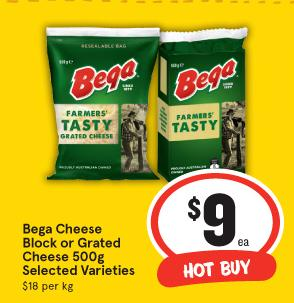description_block: (18, 217, 138, 278)
price_main: (167, 177, 272, 253)
product_image_block: (37, 16, 261, 182)
promo_text_block: (153, 252, 277, 284)
unit_price_block: (18, 277, 78, 294)
